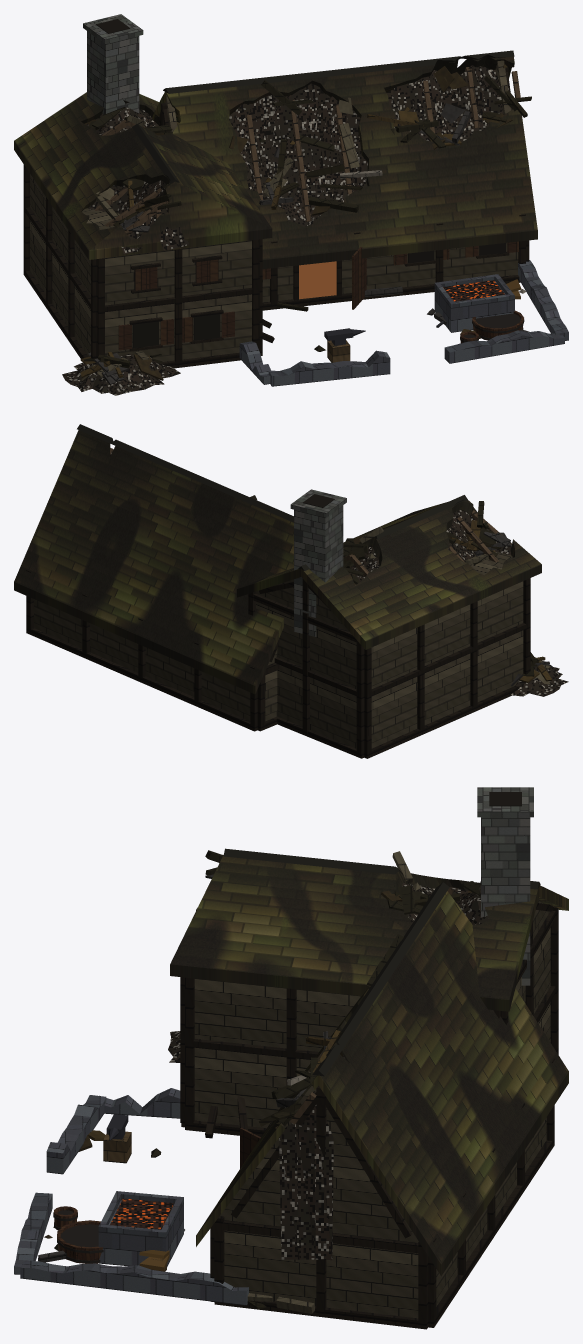
File: Arabuild04a.glb
The picture shows the model from 3 angles, top to bottom: view 1: azimuth 30°, elevation 25°; view 2: azimuth 150°, elevation 25°; view 3: azimuth 270°, elevation 25°; orthographic projection. The views are drawn at different scales.
Parts seen in each view (by area): view 1: Arabuild04a_char; view 2: Arabuild04a_char; view 3: Arabuild04a_char.
Part boxes in pixels (x1,y1,x2,y2): Arabuild04a_char: (14, 14, 568, 395); Arabuild04a_char: (14, 424, 568, 758); Arabuild04a_char: (14, 787, 568, 1329).
Size of the model in its own units: 17.25 by 8.08 by 12.86.
Materials: 31 (24 with a texture image).
